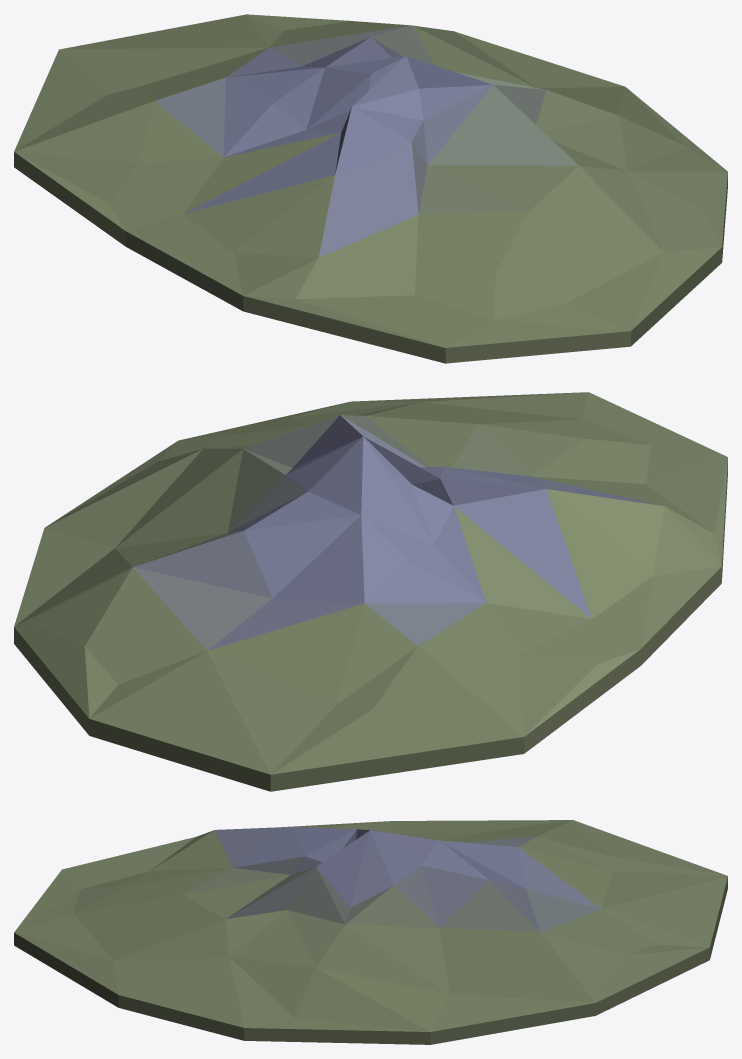
The model's file is massif_west_foothill.glb.
3 views of the same model, one above another, from view 1: azimuth 30°, elevation 25°; view 2: azimuth 150°, elevation 25°; view 3: azimuth 270°, elevation 25° (orthographic). The views are drawn at different scales.
Visible parts, largest first — view 1: massif_west_foothill; view 2: massif_west_foothill; view 3: massif_west_foothill.
Boxes of the visible parts, x1,y1,x2,y2 form: massif_west_foothill: (14,14,727,363); massif_west_foothill: (14,392,727,791); massif_west_foothill: (14,820,727,1044).
Bounding box in the file's own units: 388 × 95.33 × 552.
